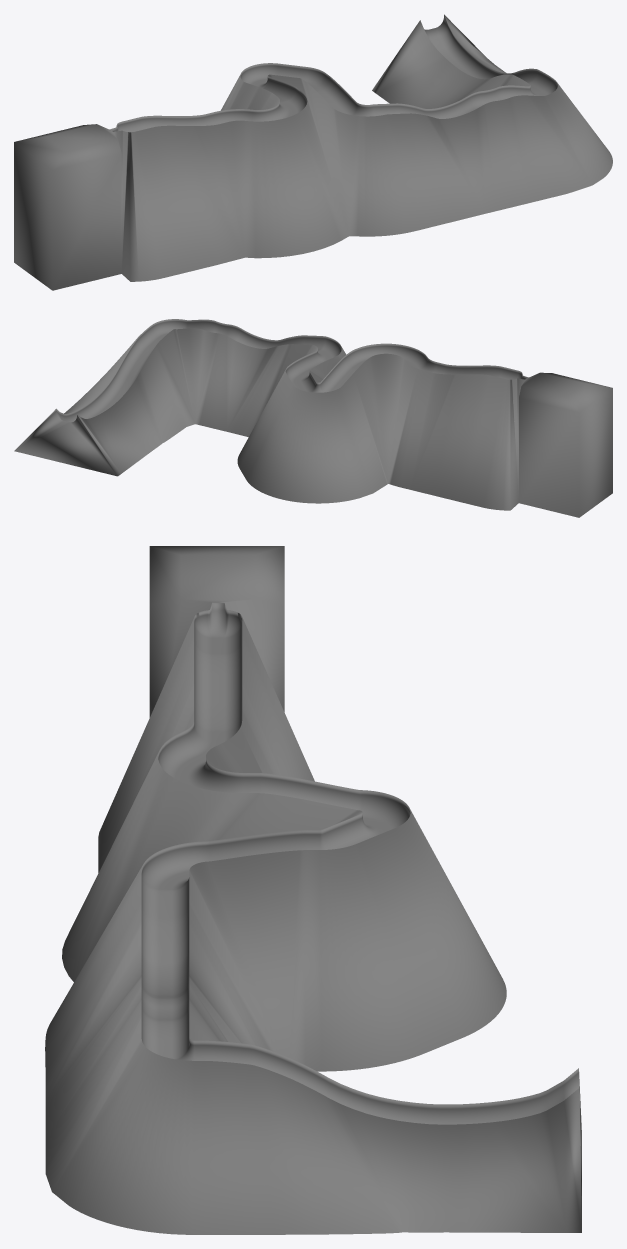
The model's file is skatepark 9 snake run.fbx.
The picture shows the model from 3 angles, top to bottom: view 1: azimuth 30°, elevation 25°; view 2: azimuth 150°, elevation 25°; view 3: azimuth 270°, elevation 25°; orthographic projection. The views are drawn at different scales.
Parts seen in each view (by area): view 1: Plane.008; view 2: Plane.008; view 3: Plane.008.
Part boxes in pixels (x1=…): Plane.008: x1=14, y1=14, x2=612, y2=290; Plane.008: x1=14, y1=319, x2=612, y2=517; Plane.008: x1=45, y1=546, x2=581, y2=1234.
Size of the model in its own units: 902 by 194 by 427.
